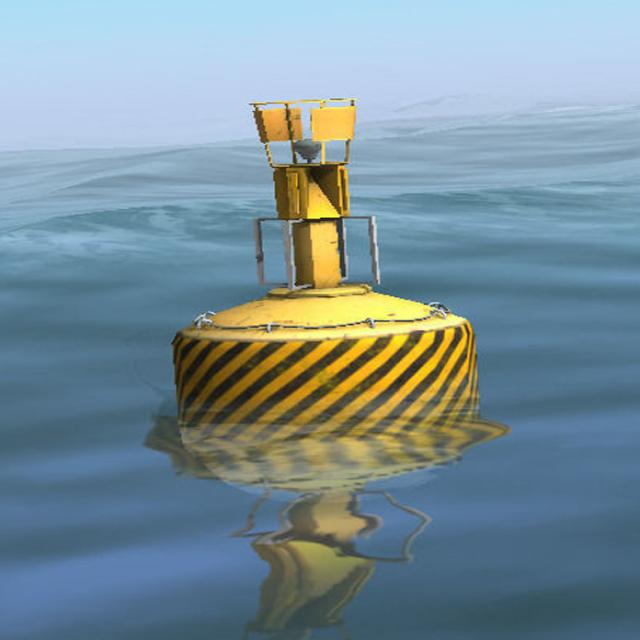buoy: (160, 87, 484, 424)
